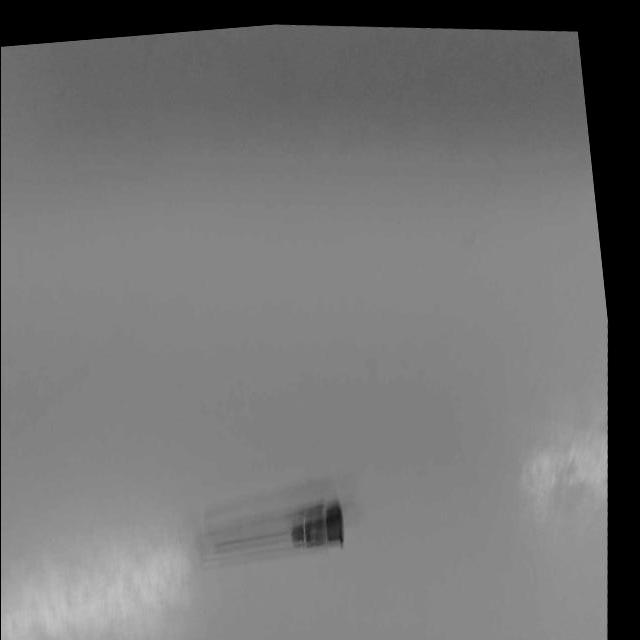Pathological: (3, 21, 610, 638)
Sharps: (200, 500, 346, 570)
